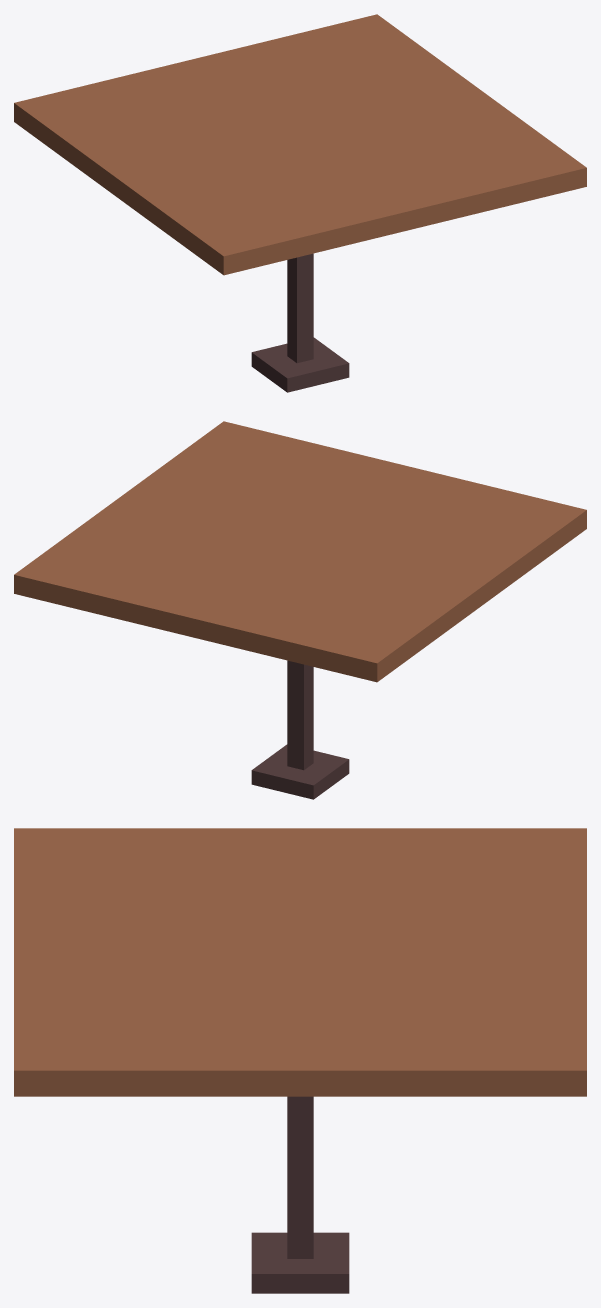
Rendered from Table2.fbx.
3 renders of one model, top to bottom at view 1: azimuth 30°, elevation 25°; view 2: azimuth 150°, elevation 25°; view 3: azimuth 270°, elevation 25°, orthographic. The views are drawn at different scales.
Parts seen in each view (by area): view 1: Table2; view 2: Table2; view 3: Table2.
Part boxes in pixels (x1,y1,x2,y2): Table2: [14, 14, 586, 392]; Table2: [14, 421, 586, 799]; Table2: [14, 828, 586, 1293].
Bounding box in the file's own units: 1.5 × 0.9339 × 1.5.
